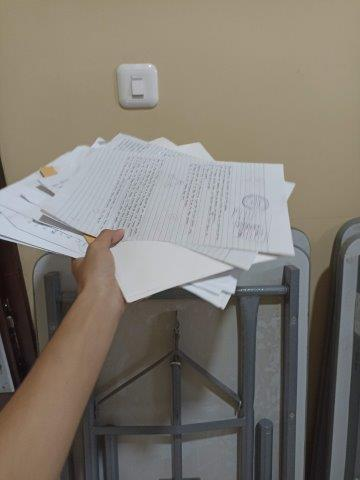kertas: (2, 133, 295, 310)
